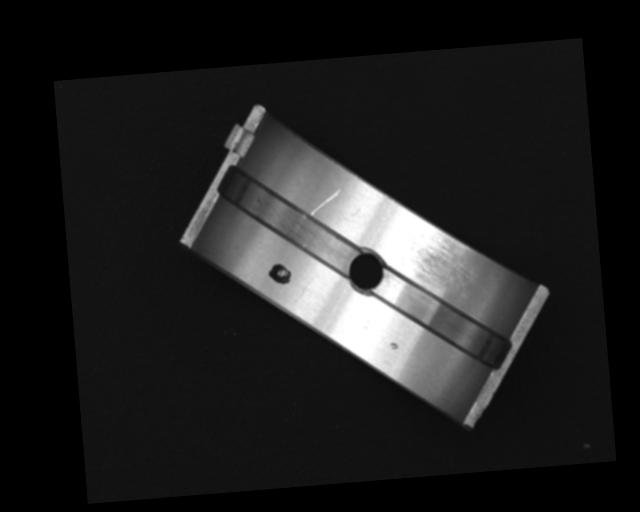blot: (267, 261, 292, 286)
bruise: (388, 341, 398, 350)
gap: (214, 153, 361, 283), (374, 264, 514, 379)
hole: (346, 248, 389, 297)
nick: (308, 188, 343, 217), (291, 273, 314, 307)
scratch: (399, 214, 478, 294)
